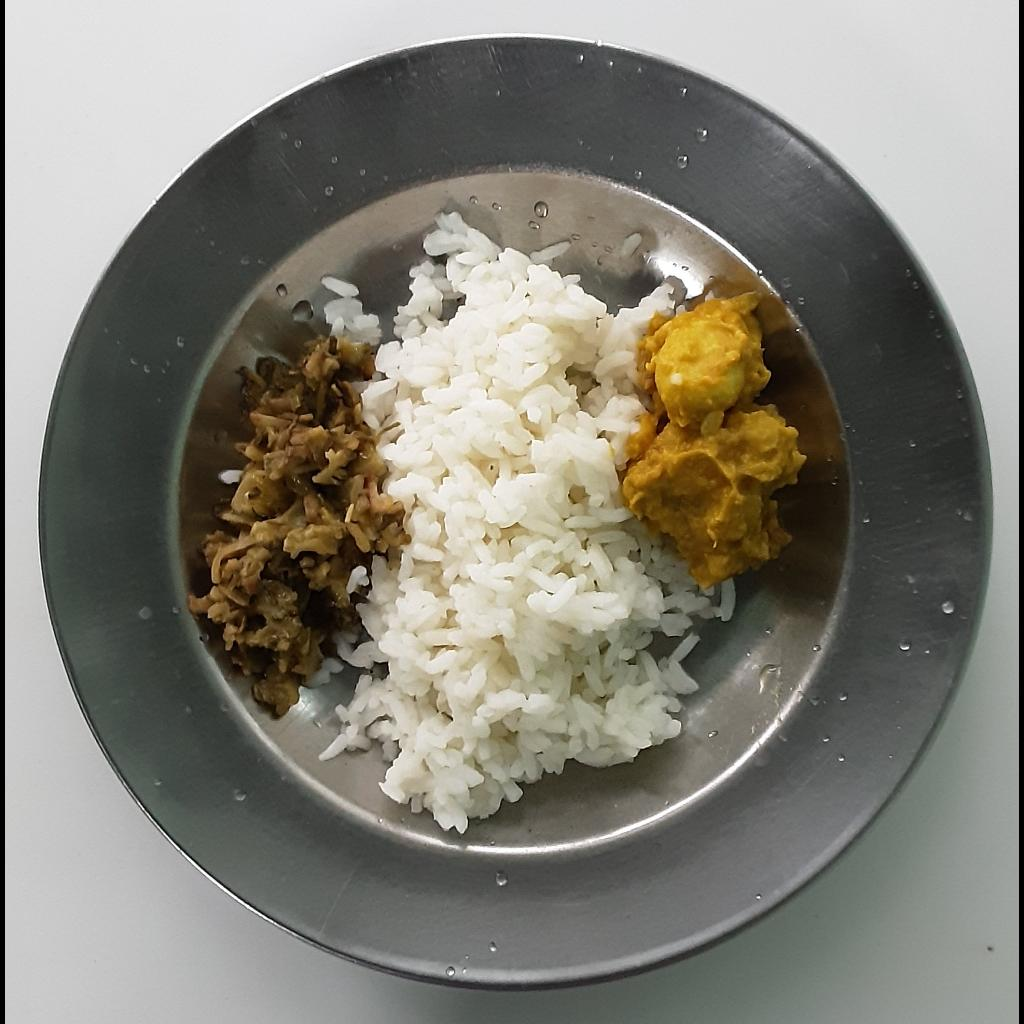kochu: (621, 289, 810, 589)
korola-vaji: (183, 292, 410, 713)
rice: (307, 204, 736, 837), (618, 230, 645, 259)
